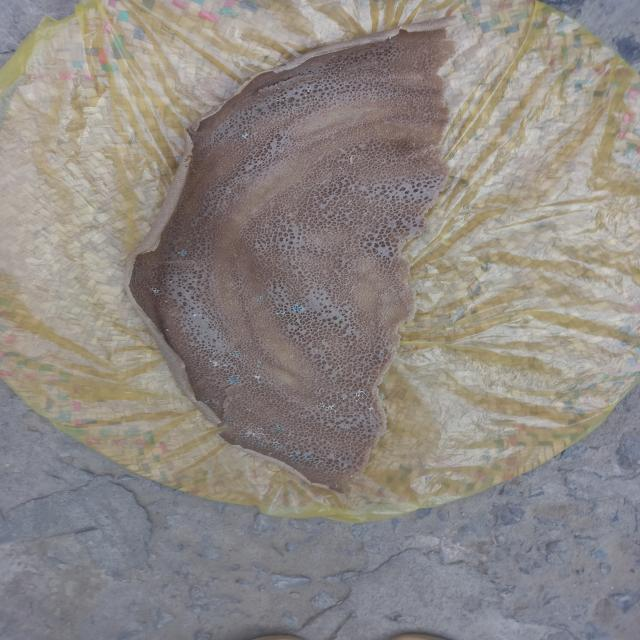injera_mold: (316, 400, 338, 412), (352, 388, 370, 402), (244, 426, 265, 438), (208, 357, 228, 369), (147, 286, 164, 296), (228, 376, 240, 384), (177, 249, 187, 257), (290, 452, 301, 458), (338, 456, 347, 462), (272, 446, 282, 451), (272, 439, 282, 444), (275, 425, 284, 430), (367, 407, 375, 411), (304, 456, 312, 460), (254, 375, 260, 380), (233, 351, 240, 355), (192, 314, 198, 318), (243, 439, 250, 442), (334, 484, 339, 488), (165, 328, 170, 332), (203, 401, 209, 404), (258, 444, 264, 447), (342, 465, 347, 468), (257, 361, 262, 364), (350, 475, 354, 478), (258, 381, 260, 383)
